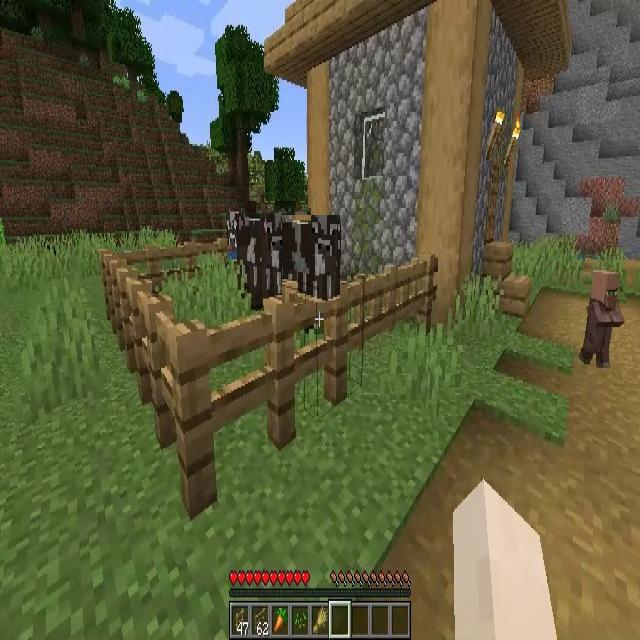cow: (282, 215, 340, 303), (226, 210, 267, 304)
people: (580, 273, 624, 368)
